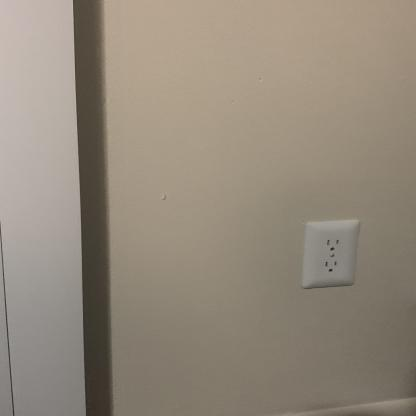OUTLET: (305, 220, 357, 288)
